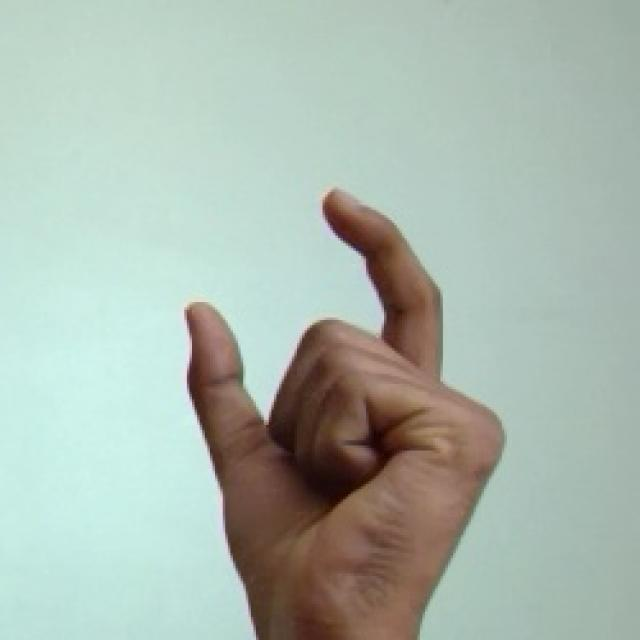Alphabet-U: (146, 143, 548, 640)
